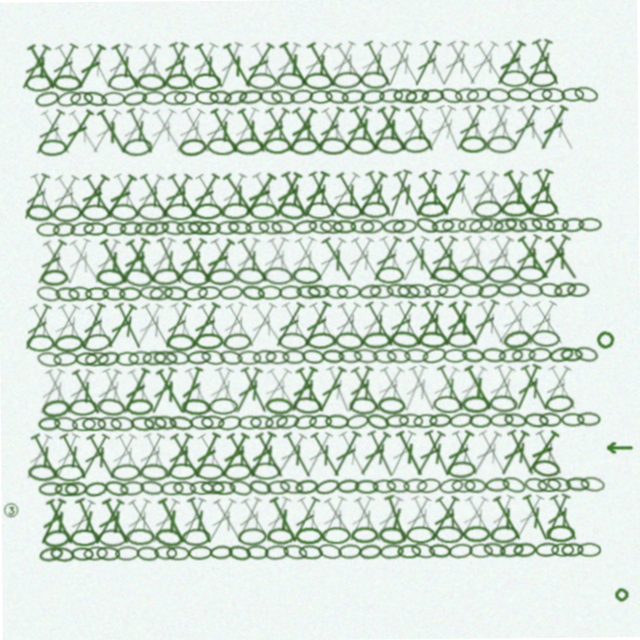chain: (277, 200, 308, 222), (123, 265, 154, 287), (502, 330, 532, 352), (152, 525, 182, 547), (81, 330, 112, 351), (389, 330, 420, 351), (95, 395, 126, 416), (530, 460, 560, 481), (459, 266, 490, 286), (278, 71, 308, 91), (348, 136, 378, 156), (334, 201, 364, 221), (180, 266, 210, 286), (334, 331, 364, 351), (40, 396, 70, 416), (40, 526, 70, 546), (263, 266, 294, 285), (180, 136, 209, 156), (376, 526, 405, 546), (138, 71, 168, 90), (334, 71, 364, 90), (124, 136, 154, 155), (208, 136, 238, 155), (376, 136, 406, 155), (110, 201, 140, 220), (138, 201, 168, 220), (418, 201, 448, 220), (474, 201, 504, 220), (96, 266, 126, 285), (152, 266, 182, 285), (236, 266, 266, 285), (292, 266, 322, 285), (530, 331, 560, 350), (292, 396, 322, 415), (432, 396, 462, 415), (544, 396, 574, 415), (26, 461, 56, 480), (432, 526, 462, 545), (499, 476, 526, 497), (362, 71, 391, 90), (404, 136, 433, 155), (26, 201, 55, 220), (488, 396, 517, 415), (415, 216, 441, 237), (54, 72, 84, 90), (110, 72, 140, 90), (224, 87, 251, 107), (488, 137, 518, 155), (208, 267, 238, 285), (278, 332, 308, 350), (306, 332, 336, 350), (180, 397, 210, 415), (138, 462, 168, 480), (250, 72, 279, 90), (306, 72, 335, 90), (236, 137, 265, 155), (292, 137, 321, 155), (320, 137, 349, 155), (54, 202, 83, 220), (82, 202, 111, 220), (432, 267, 461, 285), (488, 267, 517, 285), (54, 332, 83, 350), (166, 332, 195, 350), (362, 332, 391, 350), (418, 332, 447, 350), (264, 397, 293, 415), (348, 397, 377, 415), (110, 462, 139, 480), (194, 462, 223, 480), (222, 462, 251, 480), (446, 462, 475, 480), (96, 527, 125, 545), (180, 527, 209, 545), (236, 527, 265, 545), (488, 527, 517, 545), (84, 87, 110, 107), (440, 87, 466, 107), (504, 217, 530, 237), (364, 412, 390, 432), (226, 477, 252, 497), (246, 477, 272, 497), (313, 477, 339, 497), (306, 202, 336, 219), (531, 72, 559, 90), (517, 267, 545, 285), (223, 332, 251, 350), (447, 332, 475, 350), (377, 397, 405, 415), (265, 527, 293, 545), (36, 87, 62, 106), (58, 87, 84, 106), (575, 87, 601, 106), (469, 217, 495, 236), (531, 217, 557, 236), (36, 282, 62, 301), (200, 347, 226, 366), (421, 347, 447, 366), (548, 347, 574, 366), (573, 347, 599, 366), (102, 477, 128, 496), (277, 477, 303, 496), (315, 542, 341, 561), (408, 542, 434, 561), (194, 72, 223, 89), (502, 72, 531, 89), (40, 137, 69, 154), (166, 202, 195, 219), (194, 202, 223, 219), (222, 202, 251, 219), (250, 202, 279, 219), (362, 202, 391, 219), (502, 202, 531, 219), (530, 202, 559, 219), (376, 267, 405, 284), (26, 332, 55, 349), (194, 332, 223, 349), (68, 397, 97, 414), (208, 397, 237, 414), (54, 462, 83, 479), (250, 462, 279, 479), (68, 527, 97, 544), (124, 527, 153, 544), (320, 527, 349, 544), (404, 527, 433, 544), (544, 527, 573, 544), (27, 72, 55, 89), (167, 72, 195, 89), (265, 137, 293, 154), (461, 137, 489, 154), (41, 267, 69, 284), (125, 397, 153, 414), (461, 397, 489, 414), (167, 462, 195, 479), (293, 527, 321, 544), (349, 527, 377, 544), (461, 527, 489, 544), (553, 282, 578, 301), (263, 412, 288, 431), (480, 542, 505, 561), (124, 88, 150, 106), (260, 88, 286, 106), (272, 88, 298, 106), (326, 88, 352, 106), (406, 88, 432, 106), (70, 218, 96, 236), (145, 218, 171, 236), (258, 218, 284, 236), (293, 218, 319, 236), (493, 218, 519, 236), (183, 283, 209, 301), (538, 283, 564, 301), (36, 348, 62, 366), (52, 413, 78, 431), (167, 413, 193, 431), (216, 413, 242, 431), (437, 478, 463, 496), (36, 543, 62, 561), (47, 543, 73, 561), (280, 543, 306, 561), (241, 283, 266, 301), (358, 283, 383, 301), (407, 283, 432, 301), (477, 283, 502, 301), (96, 348, 121, 366), (218, 348, 243, 366), (292, 413, 317, 431), (344, 413, 369, 431), (502, 413, 527, 431), (82, 478, 107, 496), (522, 478, 547, 496), (225, 543, 250, 561), (161, 218, 187, 235), (518, 283, 544, 300), (274, 413, 300, 430), (544, 478, 570, 495), (578, 478, 604, 495), (240, 88, 265, 105), (291, 88, 316, 105), (468, 88, 493, 105), (228, 218, 253, 235), (309, 218, 334, 235), (480, 218, 505, 235), (149, 283, 174, 300), (386, 283, 411, 300), (165, 348, 190, 365), (353, 348, 378, 365), (386, 348, 411, 365), (152, 413, 177, 430), (448, 413, 473, 430), (138, 478, 163, 495), (384, 478, 409, 495), (415, 478, 440, 495), (497, 543, 522, 560), (188, 218, 212, 235), (301, 348, 325, 365), (293, 478, 317, 495), (343, 89, 368, 105), (362, 89, 387, 105), (488, 89, 513, 105), (530, 89, 555, 105), (543, 89, 568, 105), (103, 219, 128, 235), (216, 219, 241, 235), (320, 219, 345, 235), (393, 219, 418, 235), (55, 284, 80, 300), (163, 284, 188, 300), (296, 284, 321, 300), (324, 284, 349, 300), (84, 349, 109, 365), (372, 349, 397, 365), (498, 349, 523, 365), (511, 349, 536, 365), (96, 414, 121, 430), (109, 414, 134, 430), (129, 414, 154, 430), (412, 414, 437, 430), (523, 414, 548, 430), (262, 544, 287, 560), (296, 544, 321, 560), (377, 544, 402, 560), (446, 544, 471, 560), (423, 89, 447, 105), (53, 219, 77, 235), (361, 219, 385, 235), (383, 219, 407, 235), (432, 219, 456, 235), (562, 219, 586, 235), (397, 284, 421, 300), (461, 349, 485, 365), (171, 479, 195, 495), (462, 479, 486, 495), (134, 544, 158, 560), (356, 544, 380, 560), (426, 544, 450, 560), (68, 284, 93, 299), (219, 284, 244, 299), (424, 284, 449, 299), (186, 349, 211, 364), (252, 349, 277, 364), (481, 349, 506, 364), (118, 479, 143, 494), (81, 544, 106, 559), (144, 89, 168, 104), (165, 89, 189, 104), (197, 89, 221, 104), (381, 89, 405, 104), (395, 89, 419, 104), (457, 89, 481, 104), (509, 89, 533, 104), (120, 219, 144, 234), (272, 219, 296, 234), (351, 219, 375, 234), (443, 219, 467, 234), (459, 219, 483, 234), (102, 284, 126, 299), (140, 284, 164, 299), (307, 284, 331, 299), (460, 284, 484, 299), (498, 284, 522, 299), (53, 349, 77, 364), (128, 349, 152, 364), (142, 349, 166, 364), (153, 349, 177, 364), (321, 349, 345, 364), (338, 349, 362, 364), (404, 349, 428, 364), (189, 414, 213, 429), (200, 414, 224, 429), (324, 414, 348, 429), (384, 414, 408, 429), (398, 414, 422, 429), (489, 414, 513, 429), (576, 414, 600, 429), (37, 479, 61, 494), (199, 479, 223, 494), (335, 479, 359, 494), (402, 479, 426, 494), (484, 479, 508, 494), (564, 479, 588, 494), (94, 544, 118, 559), (113, 544, 137, 559), (186, 544, 210, 559), (336, 544, 360, 559), (533, 544, 557, 559), (72, 89, 95, 104), (211, 89, 234, 104), (520, 219, 543, 234), (282, 349, 305, 364), (528, 349, 551, 364), (37, 414, 60, 429), (143, 414, 166, 429), (308, 414, 331, 429), (428, 414, 451, 429), (538, 414, 561, 429), (63, 479, 86, 494), (152, 544, 175, 559), (208, 544, 231, 559), (244, 544, 267, 559), (511, 544, 534, 559), (103, 90, 127, 104), (176, 90, 200, 104), (311, 90, 335, 104), (37, 220, 61, 234), (84, 220, 108, 234), (135, 220, 159, 234), (177, 220, 201, 234), (246, 220, 270, 234), (333, 220, 357, 234), (579, 220, 603, 234), (85, 285, 109, 299), (258, 285, 282, 299), (337, 285, 361, 299), (370, 285, 394, 299), (438, 285, 462, 299), (115, 350, 139, 364), (237, 350, 261, 364), (265, 350, 289, 364), (443, 350, 467, 364), (71, 415, 95, 429), (81, 415, 105, 429), (237, 415, 261, 429), (249, 415, 273, 429), (560, 415, 584, 429), (53, 480, 77, 494), (188, 480, 212, 494), (210, 480, 234, 494), (265, 480, 289, 494), (353, 480, 377, 494), (371, 480, 395, 494), (450, 480, 474, 494), (536, 480, 560, 494), (164, 545, 188, 559), (395, 545, 419, 559), (467, 545, 491, 559), (575, 545, 599, 559), (563, 90, 586, 104), (199, 220, 222, 234), (547, 220, 570, 234), (119, 285, 142, 299), (198, 285, 221, 299), (279, 285, 302, 299), (567, 285, 590, 299), (75, 350, 98, 364), (560, 350, 583, 364), (468, 415, 491, 429), (159, 480, 182, 494), (69, 545, 92, 559), (549, 545, 572, 559), (559, 545, 582, 559)
double: (198, 105, 239, 155), (156, 170, 197, 220), (240, 170, 281, 220), (198, 235, 239, 285), (254, 365, 295, 415), (296, 40, 337, 89), (492, 300, 533, 349), (473, 40, 513, 90), (255, 105, 295, 155), (101, 170, 141, 220), (129, 170, 169, 220), (493, 170, 533, 220), (123, 235, 163, 285), (543, 235, 583, 285), (529, 300, 569, 350), (423, 365, 463, 415), (269, 430, 309, 480), (333, 40, 373, 89), (353, 40, 393, 89), (59, 105, 99, 154), (53, 170, 93, 219), (73, 170, 113, 219), (221, 170, 261, 219), (171, 235, 211, 284), (515, 235, 555, 284), (249, 300, 289, 349), (367, 365, 407, 414), (353, 430, 393, 479), (521, 430, 561, 479), (431, 495, 471, 544), (241, 40, 280, 90), (465, 40, 504, 90), (493, 40, 532, 90), (31, 105, 70, 155), (39, 105, 78, 155), (67, 105, 106, 155), (95, 105, 134, 155), (151, 105, 190, 155), (171, 105, 210, 155), (45, 170, 84, 220), (81, 170, 120, 220), (193, 170, 232, 220), (353, 170, 392, 220), (417, 170, 456, 220), (465, 170, 504, 220), (235, 235, 274, 285), (311, 235, 350, 285), (319, 235, 358, 285), (423, 235, 462, 285), (479, 235, 518, 285), (45, 300, 84, 350), (381, 300, 420, 350), (445, 300, 484, 350), (263, 365, 302, 415), (347, 365, 386, 415), (479, 365, 518, 415), (193, 430, 232, 480), (409, 430, 448, 480), (451, 495, 490, 545), (46, 39, 84, 90), (54, 39, 92, 90), (186, 39, 224, 90), (250, 39, 288, 90), (278, 39, 316, 90), (390, 39, 428, 90), (446, 39, 484, 90), (116, 104, 154, 155), (348, 104, 386, 155), (452, 104, 490, 155), (250, 169, 288, 220), (116, 234, 154, 285), (508, 234, 546, 285), (536, 234, 574, 285), (54, 299, 92, 350), (138, 299, 176, 350), (186, 299, 224, 350), (278, 299, 316, 350), (130, 429, 168, 480), (438, 429, 476, 480), (292, 494, 330, 545), (508, 494, 546, 545), (291, 105, 330, 154), (325, 170, 364, 219), (67, 235, 106, 284), (451, 235, 490, 284), (451, 365, 490, 414), (123, 495, 162, 544), (319, 495, 358, 544), (18, 40, 56, 90), (138, 40, 176, 90), (88, 105, 126, 155), (284, 105, 322, 155), (320, 105, 358, 155), (516, 105, 554, 155), (166, 170, 204, 220), (186, 170, 224, 220), (334, 170, 372, 220), (474, 170, 512, 220), (32, 235, 70, 285), (40, 235, 78, 285), (340, 235, 378, 285), (348, 235, 386, 285), (404, 235, 442, 285), (432, 235, 470, 285), (102, 300, 140, 350), (194, 300, 232, 350), (222, 300, 260, 350), (242, 300, 280, 350), (270, 300, 308, 350), (326, 300, 364, 350), (354, 300, 392, 350), (522, 300, 560, 350), (536, 365, 574, 415), (74, 430, 112, 480), (166, 430, 204, 480), (214, 430, 252, 480), (222, 430, 260, 480), (306, 430, 344, 480), (466, 430, 504, 480), (88, 495, 126, 545), (200, 495, 238, 545), (208, 495, 246, 545), (236, 495, 274, 545), (26, 39, 63, 90), (158, 39, 195, 90), (438, 39, 475, 90), (180, 104, 217, 155), (228, 104, 265, 155), (340, 104, 377, 155), (368, 104, 405, 155), (424, 104, 461, 155), (544, 104, 581, 155), (502, 169, 539, 220), (256, 234, 293, 285), (376, 234, 413, 285), (460, 234, 497, 285), (488, 234, 525, 285), (26, 299, 63, 350), (298, 299, 335, 350), (466, 299, 503, 350), (60, 364, 97, 415), (284, 364, 321, 415), (460, 364, 497, 415), (26, 429, 63, 480), (326, 429, 363, 480), (334, 429, 371, 480), (474, 429, 511, 480), (264, 494, 301, 545), (74, 40, 111, 90), (194, 40, 231, 90), (222, 40, 259, 90), (306, 40, 343, 90), (144, 105, 181, 155), (236, 105, 273, 155), (264, 105, 301, 155), (376, 105, 413, 155), (404, 105, 441, 155), (508, 105, 545, 155), (536, 105, 573, 155), (138, 170, 175, 220), (270, 170, 307, 220), (180, 235, 217, 285), (208, 235, 245, 285), (292, 235, 329, 285), (368, 235, 405, 285), (82, 300, 119, 350), (130, 300, 167, 350), (306, 300, 343, 350), (334, 300, 371, 350), (362, 300, 399, 350), (418, 300, 455, 350), (438, 300, 475, 350), (474, 300, 511, 350), (502, 300, 539, 350), (68, 365, 105, 415), (124, 365, 161, 415), (152, 365, 189, 415), (292, 365, 329, 415), (376, 365, 413, 415), (544, 365, 581, 415), (82, 430, 119, 480), (102, 430, 139, 480), (494, 430, 531, 480), (60, 495, 97, 545), (144, 495, 181, 545), (368, 495, 405, 545), (396, 495, 433, 545), (424, 495, 461, 545), (460, 495, 497, 545), (488, 495, 525, 545), (363, 39, 399, 90), (531, 39, 567, 90), (111, 169, 147, 220), (279, 169, 315, 220), (363, 169, 399, 220), (111, 299, 147, 350), (391, 299, 427, 350), (41, 364, 77, 415), (117, 364, 153, 415), (433, 364, 469, 415), (55, 429, 91, 480), (187, 429, 223, 480), (391, 429, 427, 480), (503, 429, 539, 480), (531, 429, 567, 480), (41, 494, 77, 545), (97, 494, 133, 545), (153, 494, 189, 545), (257, 494, 293, 545), (313, 494, 349, 545), (341, 494, 377, 545), (111, 40, 147, 90), (131, 40, 167, 90), (271, 40, 307, 90), (411, 40, 447, 90), (503, 40, 539, 90), (209, 105, 245, 155), (313, 105, 349, 155), (397, 105, 433, 155), (215, 170, 251, 220), (391, 170, 427, 220), (89, 235, 125, 285), (97, 235, 133, 285), (229, 235, 265, 285), (265, 235, 301, 285), (397, 235, 433, 285), (19, 300, 55, 350), (89, 365, 125, 415), (201, 365, 237, 415), (229, 365, 265, 415), (313, 365, 349, 415), (517, 365, 553, 415), (19, 430, 55, 480), (111, 430, 147, 480), (159, 430, 195, 480), (251, 430, 287, 480), (279, 430, 315, 480), (299, 430, 335, 480), (117, 495, 153, 545), (285, 495, 321, 545), (349, 495, 385, 545), (545, 495, 581, 545), (83, 39, 118, 90), (103, 39, 138, 90), (327, 39, 362, 90), (419, 39, 454, 90), (125, 104, 160, 155), (461, 104, 496, 155), (481, 104, 516, 155), (19, 169, 54, 220), (299, 169, 334, 220), (307, 169, 342, 220), (411, 169, 446, 220), (439, 169, 474, 220), (447, 169, 482, 220), (531, 169, 566, 220), (145, 234, 180, 285), (285, 234, 320, 285), (159, 299, 194, 350), (167, 299, 202, 350), (411, 299, 446, 350), (33, 364, 68, 415), (145, 364, 180, 415), (181, 364, 216, 415), (237, 364, 272, 415), (341, 364, 376, 415), (405, 364, 440, 415), (139, 429, 174, 480), (243, 429, 278, 480), (363, 429, 398, 480), (383, 429, 418, 480), (447, 429, 482, 480), (33, 494, 68, 545), (229, 494, 264, 545), (168, 39, 202, 90), (384, 39, 418, 90), (524, 39, 558, 90), (434, 104, 468, 155), (524, 169, 558, 220), (154, 234, 188, 285), (216, 299, 250, 350), (98, 364, 132, 415), (510, 364, 544, 415), (48, 429, 82, 480), (420, 429, 454, 480), (70, 494, 104, 545), (174, 494, 208, 545), (406, 494, 440, 545), (482, 494, 516, 545), (518, 494, 552, 545), (538, 494, 572, 545), (216, 39, 249, 90), (490, 104, 523, 155), (28, 169, 61, 220), (62, 234, 95, 285), (76, 299, 109, 350), (322, 364, 355, 415), (398, 364, 431, 415), (490, 364, 523, 415), (182, 494, 215, 545), (211, 364, 243, 415), (379, 494, 411, 545), (385, 169, 416, 220), (175, 364, 206, 415)
noise: (595, 332, 616, 353), (0, 498, 19, 517), (603, 445, 632, 456), (612, 590, 627, 605)
